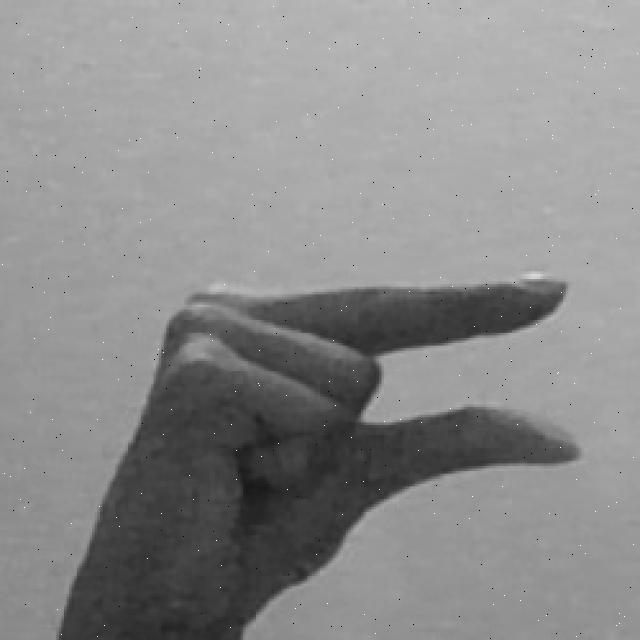G: (60, 269, 585, 640)
